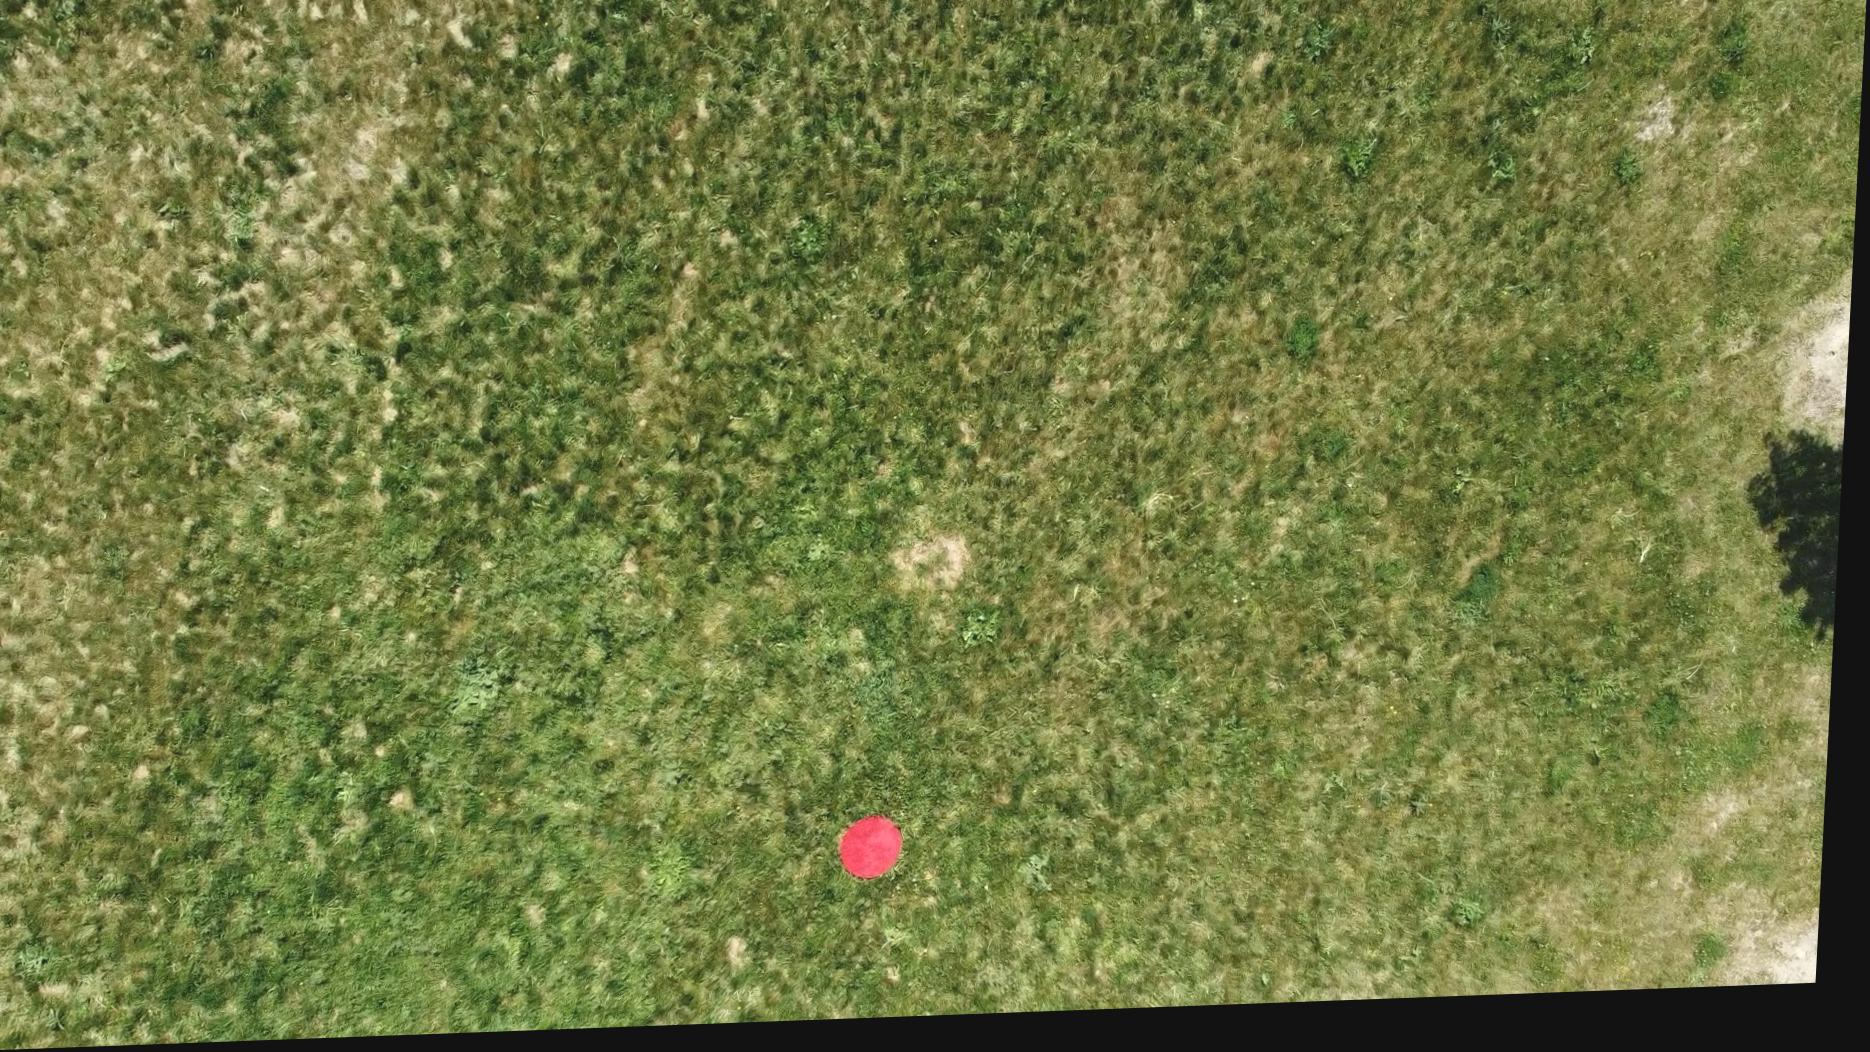Red: (845, 821, 916, 890)
